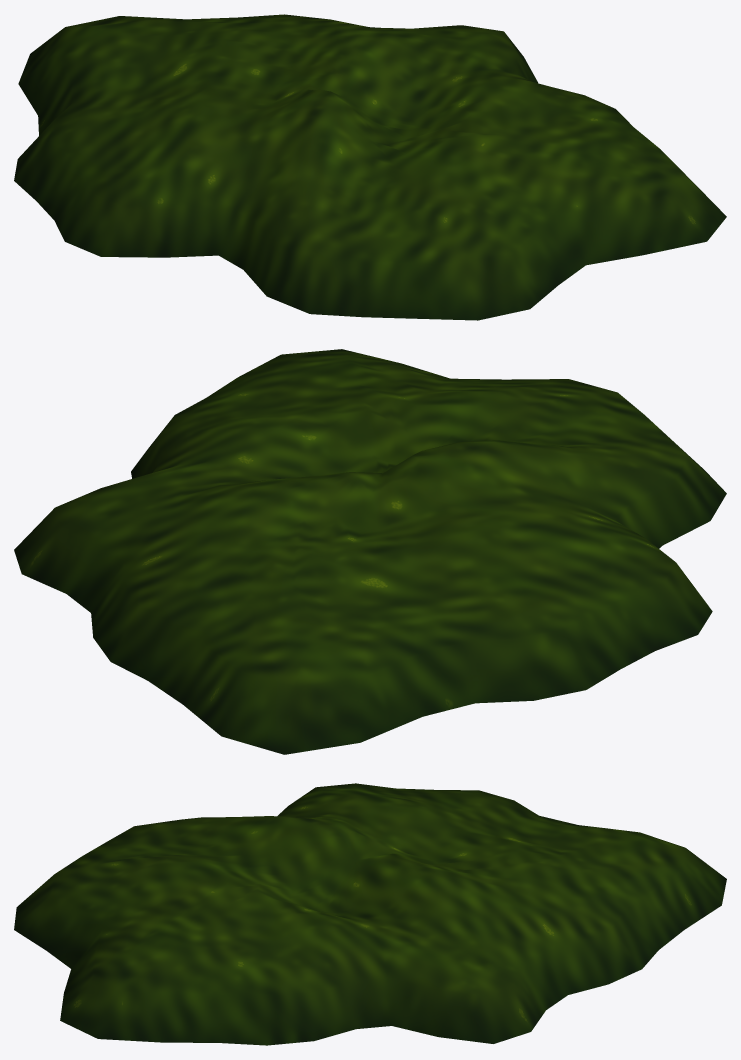
The model's file is eco_moss_cushion_a_LOD0.glb.
3 renders of one model, top to bottom at view 1: azimuth 30°, elevation 25°; view 2: azimuth 150°, elevation 25°; view 3: azimuth 270°, elevation 25°, orthographic. The views are drawn at different scales.
Parts seen in each view (by area): view 1: eco_moss_cushion_a_LOD0; view 2: eco_moss_cushion_a_LOD0; view 3: eco_moss_cushion_a_LOD0.
Boxes of the visible parts, left/top/right/bottom form: eco_moss_cushion_a_LOD0: left=14, top=14, right=726, bottom=320; eco_moss_cushion_a_LOD0: left=14, top=349, right=726, bottom=754; eco_moss_cushion_a_LOD0: left=14, top=783, right=726, bottom=1045.
Bounding box in the file's own units: 0.4985 × 0.0839 × 0.622.
1 material, 1 textured.
